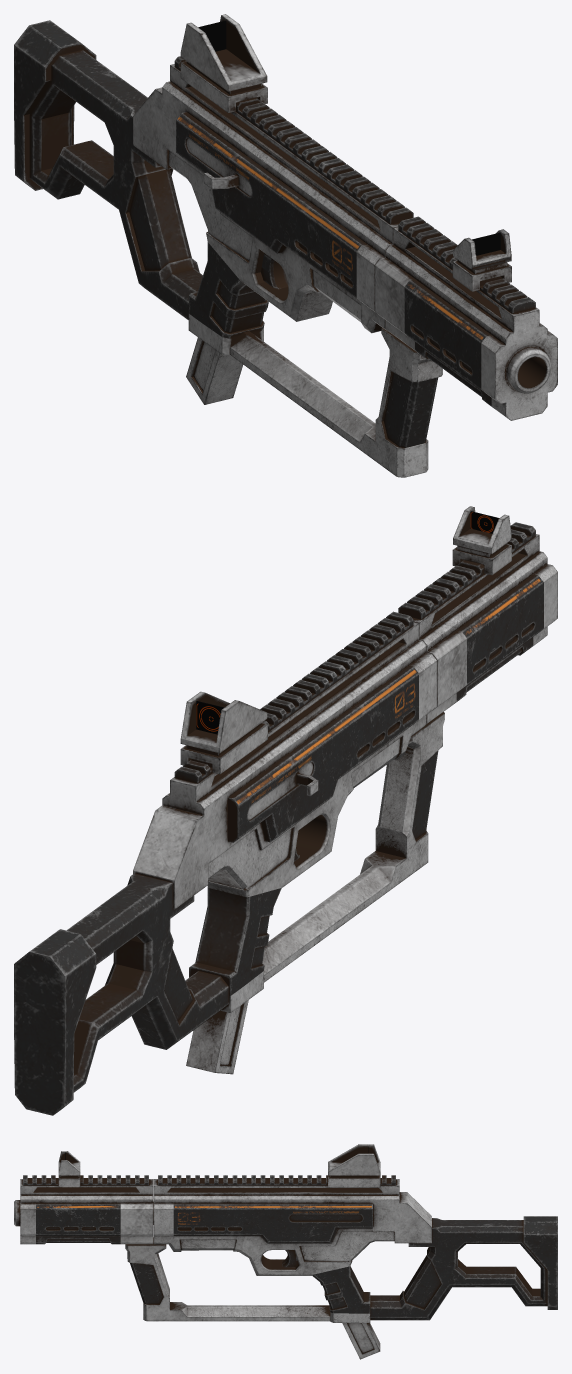
File: g32_lightweight_submachine_gun.glb
The picture shows the model from 3 angles, top to bottom: view 1: azimuth 30°, elevation 25°; view 2: azimuth 150°, elevation 25°; view 3: azimuth 270°, elevation 25°; orthographic projection. The views are drawn at different scales.
Parts seen in each view (by area): view 1: GunBodyModel, GunStockModel, BodyExtensionModel, BodyGripModel, SightModel, RailModel, Rail2Model, AmmoCartridgeModel, Sight2Model, ChamberCapsuleModel, GunTriggerModel, HoloSightModel; view 2: GunBodyModel, GunStockModel, BodyExtensionModel, BodyGripModel, RailModel, SightModel, AmmoCartridgeModel, Rail2Model, Sight2Model, ChamberCapsuleModel; view 3: GunBodyModel, GunStockModel, BodyExtensionModel, BodyGripModel, SightModel, RailModel, Rail2Model, AmmoCartridgeModel, Sight2Model.
Boxes of the visible parts, <box> form: GunBodyModel: <box>133,64,399,355</box>; GunStockModel: <box>14,20,202,319</box>; BodyExtensionModel: <box>375,227,557,420</box>; BodyGripModel: <box>230,327,442,477</box>; SightModel: <box>180,14,267,112</box>; RailModel: <box>174,56,413,224</box>; Rail2Model: <box>398,216,535,313</box>; AmmoCartridgeModel: <box>186,337,243,404</box>; Sight2Model: <box>452,229,511,291</box>; ChamberCapsuleModel: <box>186,138,251,196</box>; GunTriggerModel: <box>261,253,288,289</box>; HoloSightModel: <box>198,20,226,51</box>; GunBodyModel: <box>133,622,437,1012</box>; GunStockModel: <box>14,873,228,1115</box>; BodyExtensionModel: <box>412,534,557,723</box>; BodyGripModel: <box>262,712,444,982</box>; RailModel: <box>174,611,413,783</box>; SightModel: <box>180,691,267,774</box>; AmmoCartridgeModel: <box>186,1000,248,1074</box>; Rail2Model: <box>398,522,535,619</box>; Sight2Model: <box>452,506,511,575</box>; ChamberCapsuleModel: <box>247,762,318,820</box>; GunBodyModel: <box>153,1179,431,1322</box>; GunStockModel: <box>370,1216,557,1320</box>; BodyExtensionModel: <box>14,1179,153,1244</box>; BodyGripModel: <box>125,1237,330,1321</box>; SightModel: <box>328,1144,380,1187</box>; RailModel: <box>158,1175,395,1185</box>; Rail2Model: <box>23,1175,148,1185</box>; AmmoCartridgeModel: <box>342,1323,380,1359</box>; Sight2Model: <box>58,1151,80,1187</box>.
Size of the model in its own units: 0.081 by 0.3422 by 0.8187.
Materials: 3 (3 with a texture image).
